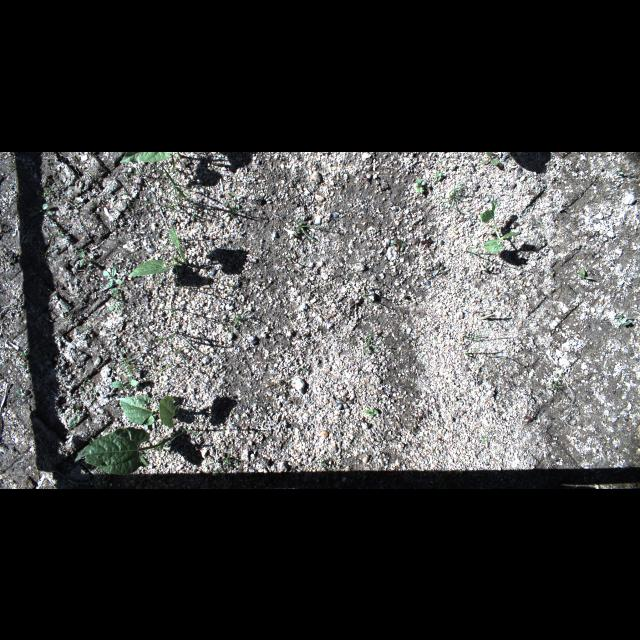crop: (74, 426, 174, 474), (130, 224, 188, 276), (119, 396, 183, 428), (118, 152, 172, 162)
weed: (117, 156, 199, 217), (150, 329, 226, 358), (100, 364, 186, 388), (480, 200, 518, 252), (291, 220, 329, 260), (439, 182, 469, 214), (226, 311, 256, 339), (361, 332, 391, 360), (150, 270, 186, 292), (472, 310, 508, 332), (64, 399, 84, 438), (1, 238, 23, 272), (32, 240, 60, 264), (222, 188, 244, 218), (113, 355, 141, 377), (459, 329, 489, 349), (170, 348, 196, 370), (216, 452, 234, 476), (102, 266, 121, 288), (178, 426, 204, 440), (120, 164, 140, 182), (359, 291, 377, 309), (486, 350, 509, 364), (388, 236, 408, 252), (110, 379, 140, 389), (615, 313, 633, 329), (464, 241, 482, 257), (480, 151, 500, 165), (225, 270, 239, 290), (19, 347, 31, 368), (578, 268, 598, 280), (32, 202, 52, 214), (79, 380, 95, 394), (432, 260, 446, 276), (416, 176, 426, 194), (463, 350, 481, 360), (108, 302, 126, 310), (364, 407, 378, 417), (76, 252, 86, 266), (74, 323, 88, 333), (15, 388, 30, 397), (148, 306, 180, 310), (550, 380, 562, 390), (43, 184, 53, 196), (433, 169, 443, 181), (113, 287, 123, 297), (480, 433, 488, 443), (56, 230, 66, 238), (615, 169, 625, 175)
